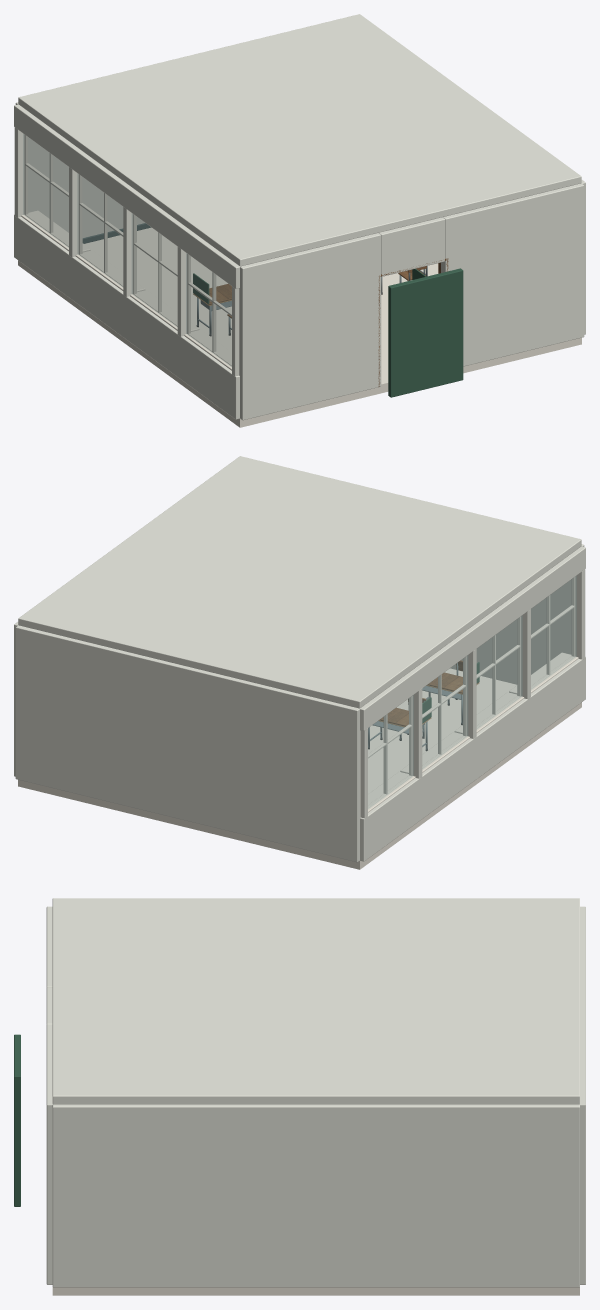
File: exam-1.glb
3 views of the same model, one above another, from view 1: azimuth 30°, elevation 25°; view 2: azimuth 150°, elevation 25°; view 3: azimuth 270°, elevation 25° (orthographic). The views are drawn at different scales.
Parts seen in each view (by area): view 1: exam-1__architecture_and_equipment; view 2: exam-1__architecture_and_equipment; view 3: exam-1__architecture_and_equipment.
Boxes of the visible parts, left/top/right/bottom form: exam-1__architecture_and_equipment: left=14, top=14, right=585, bottom=427; exam-1__architecture_and_equipment: left=14, top=456, right=585, bottom=869; exam-1__architecture_and_equipment: left=14, top=898, right=585, bottom=1295.
Bounding box in the file's own units: 8.2 × 3.76 × 9.76.
Materials: 12 (1 with a texture image).
